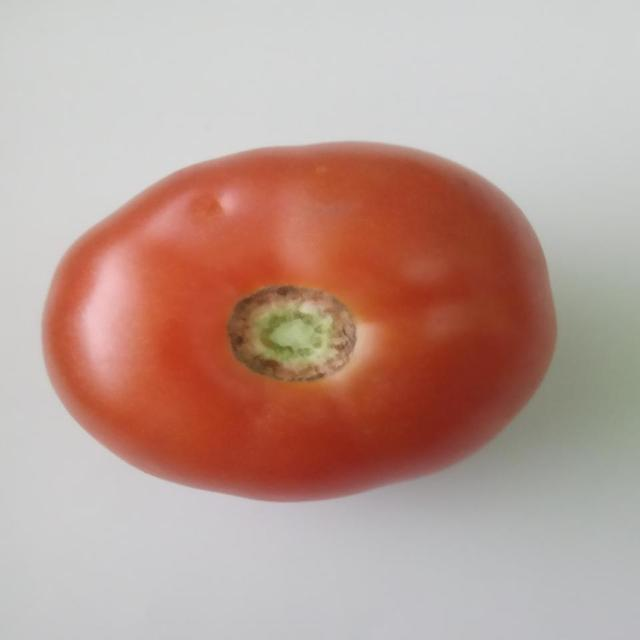Healthy Fruit: (22, 92, 379, 340)
